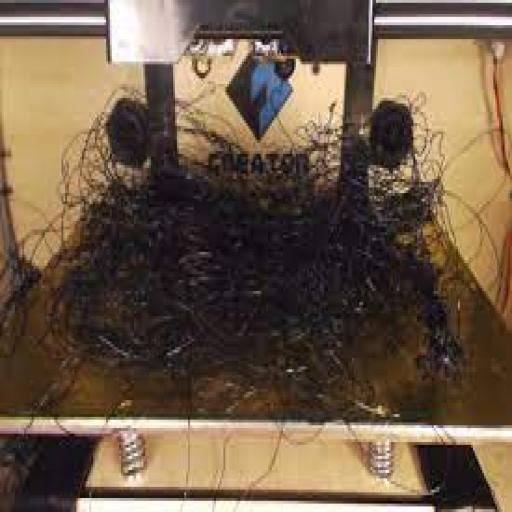spaghetti: (28, 74, 437, 458)
